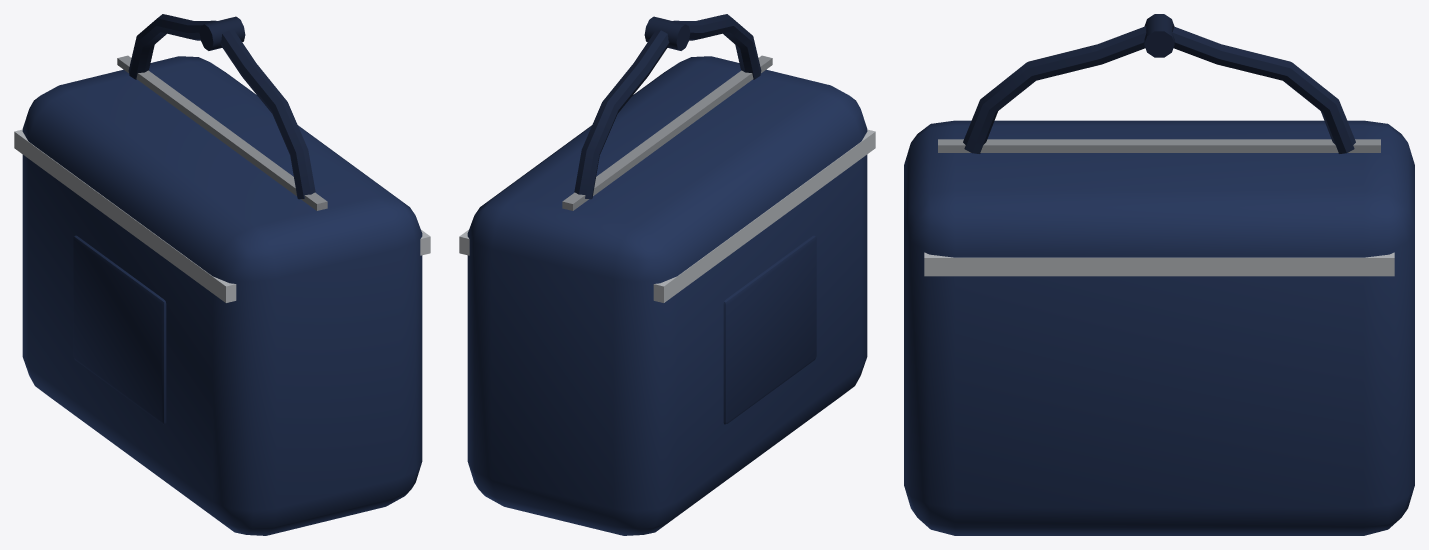
File: cooler_bag.glb
3 views of the same model, side by side, from view 1: azimuth 30°, elevation 25°; view 2: azimuth 150°, elevation 25°; view 3: azimuth 270°, elevation 25° (orthographic). The views are drawn at different scales.
Visible parts, largest first — view 1: cooler_bag_vc; view 2: cooler_bag_vc; view 3: cooler_bag_vc.
Boxes of the visible parts, x1,y1,x2,y2 form: cooler_bag_vc: [14, 14, 430, 535]; cooler_bag_vc: [459, 14, 875, 535]; cooler_bag_vc: [904, 14, 1414, 535].
Size of the model in its own units: 0.156 by 0.3086 by 0.3.
